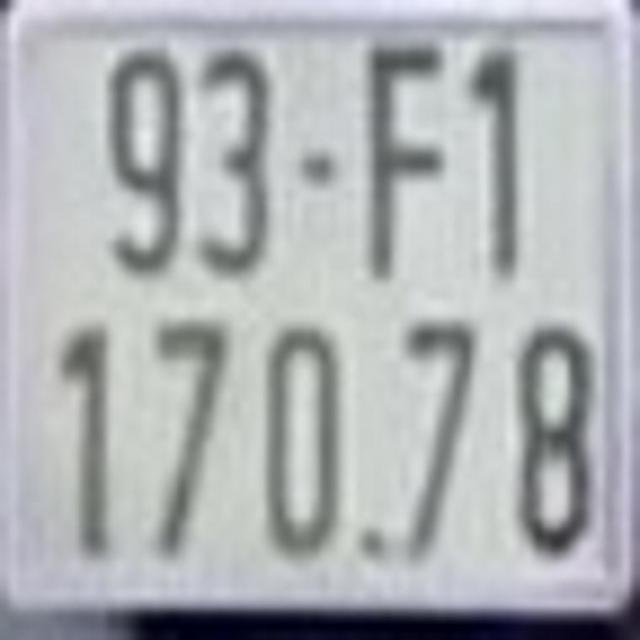0: (255, 308, 346, 556)
1: (454, 21, 542, 286), (42, 322, 136, 557)
3: (194, 23, 282, 276)
7: (394, 306, 484, 568), (148, 310, 228, 556)
8: (510, 300, 600, 562)
9: (96, 36, 187, 282)
F: (352, 20, 445, 287)
